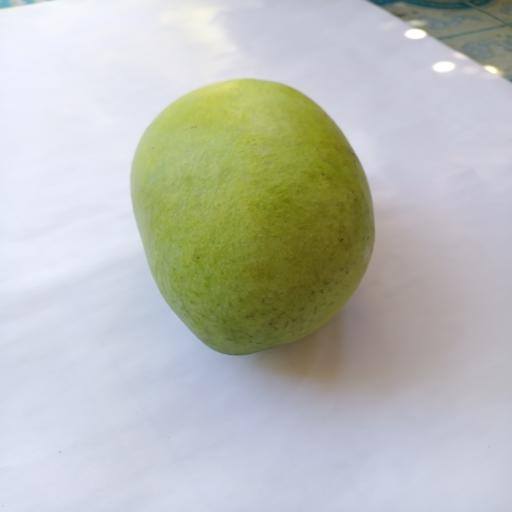mango-unripe: (119, 53, 393, 378)
